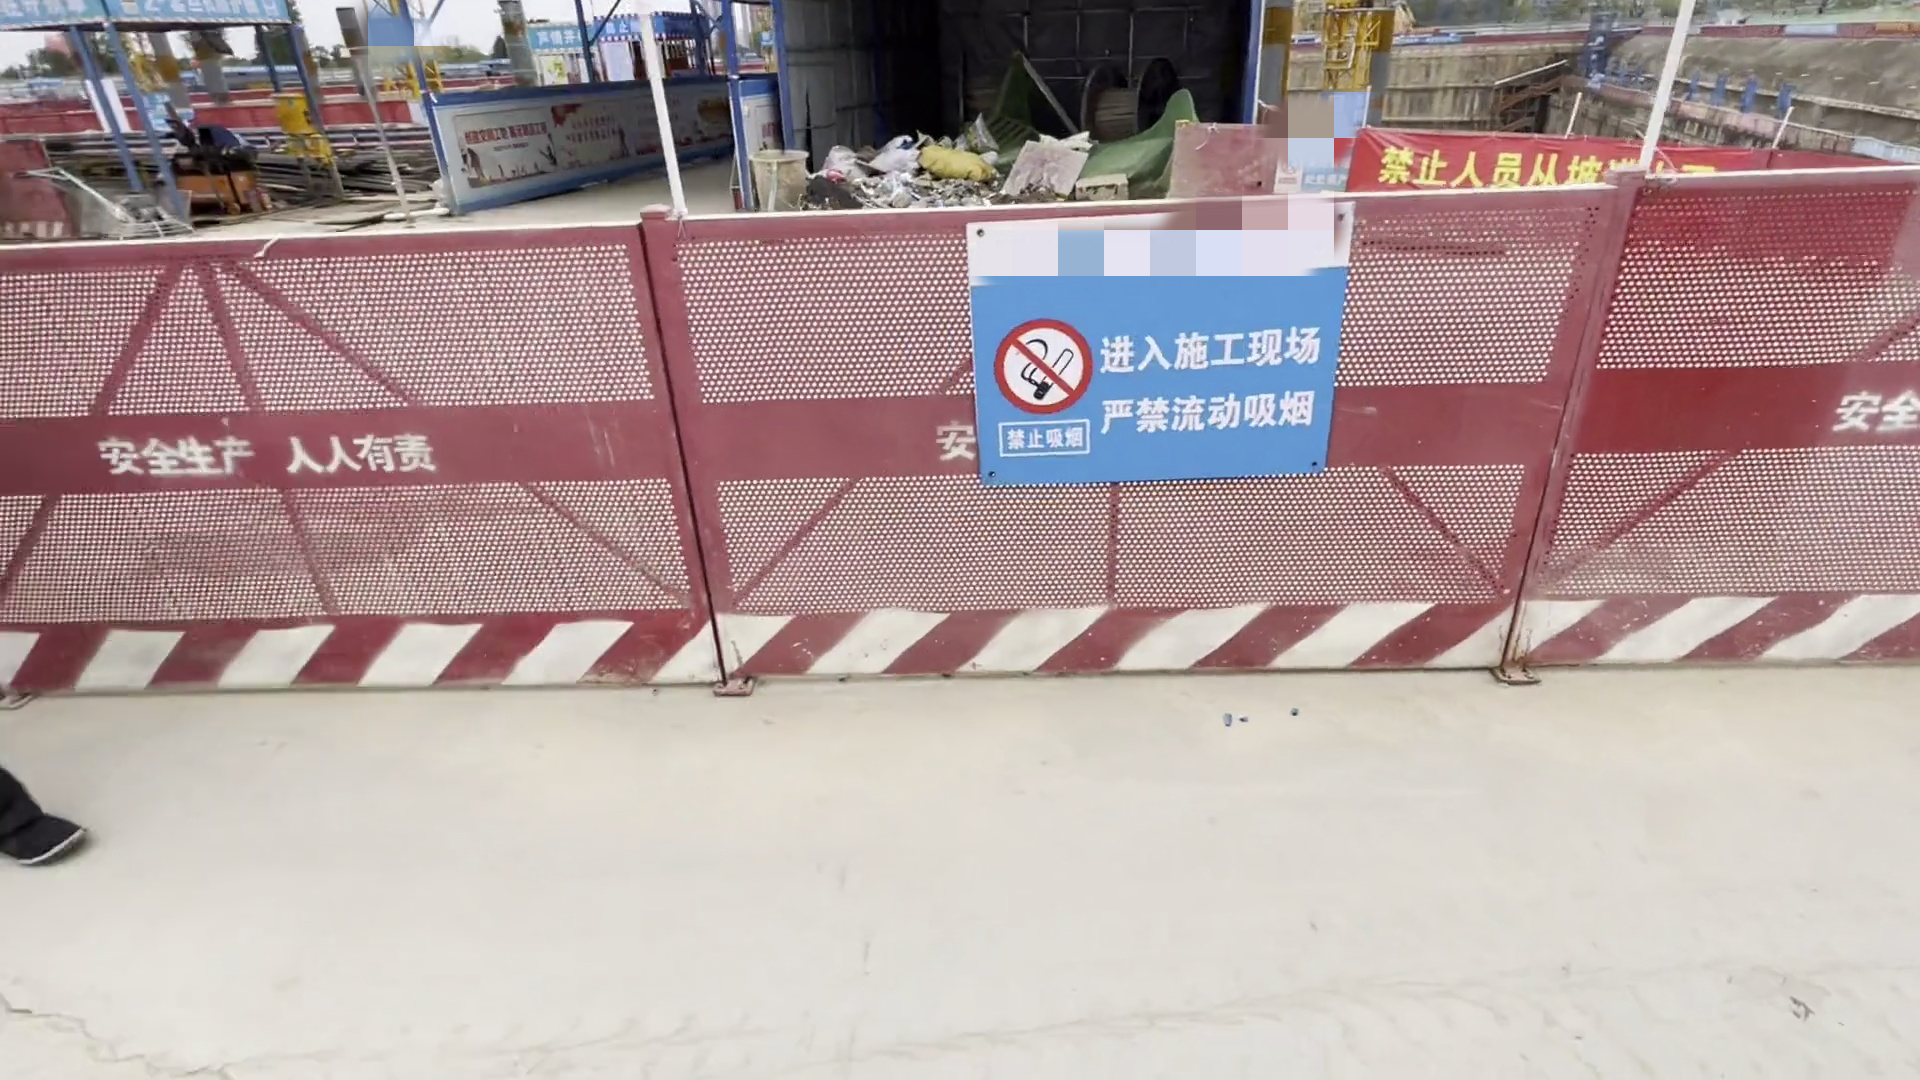slogan: (7, 193, 1895, 723), (967, 212, 1338, 475)
